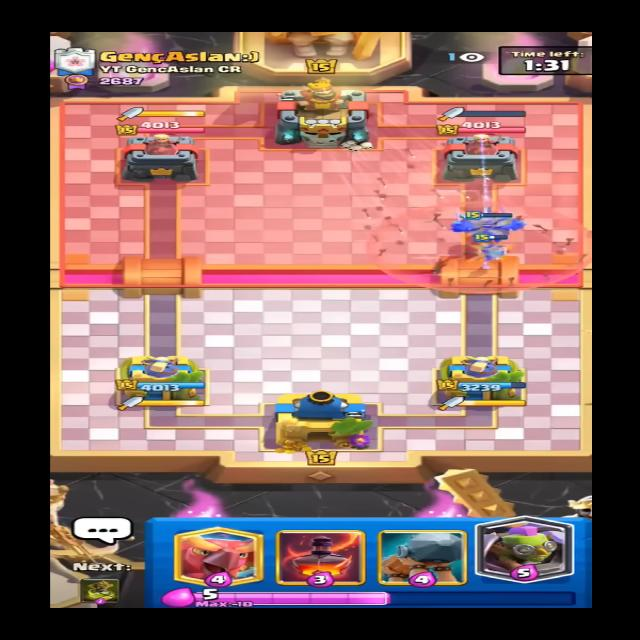arrows: (358, 192, 594, 299)
